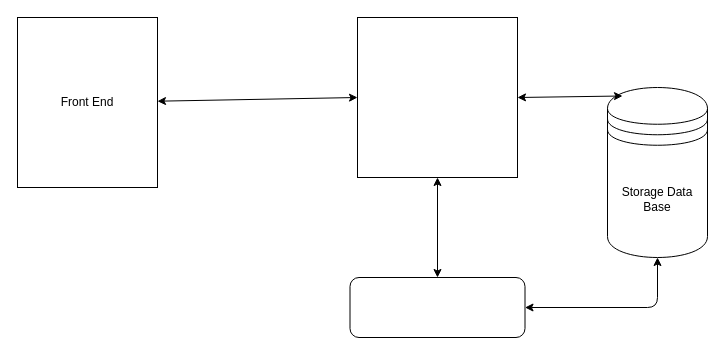
This 725x355 diagram has some shape labels left out. The shapes that lost their labels are listed below. From the top down, each one's centre as x and y in pixels, then its label:
the point at 437,97: Back End API Spring Boot
the point at 437,307: Business Process Orchestrator
